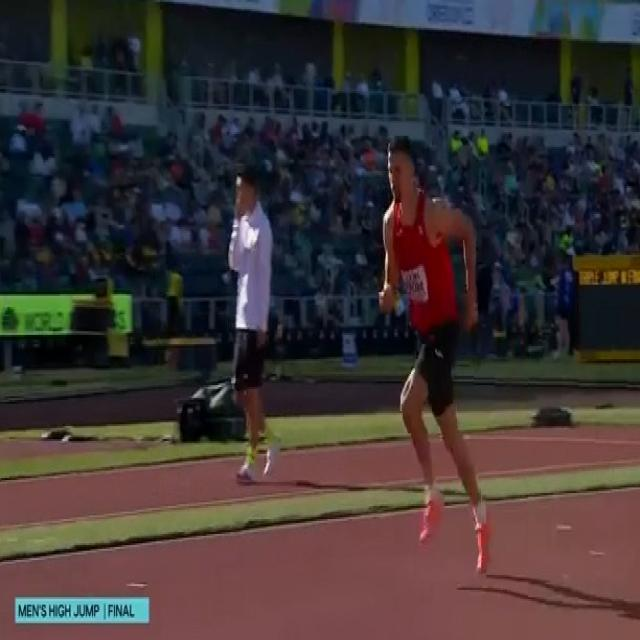run: (378, 140, 497, 585)
